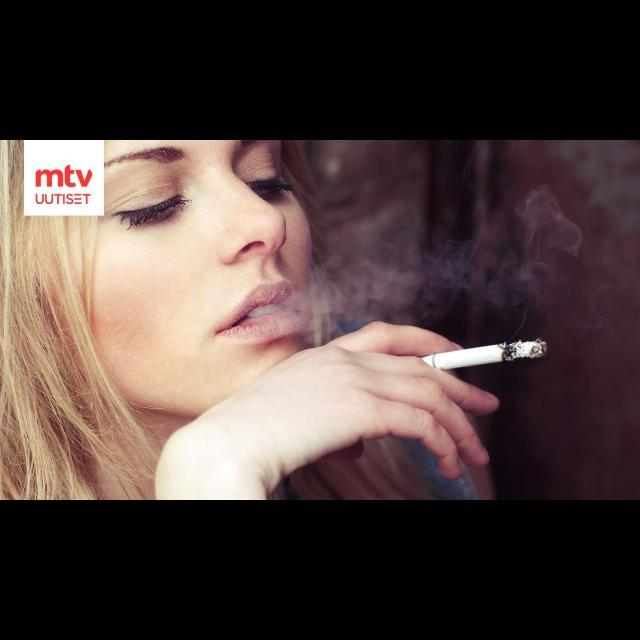rokok: (404, 332, 556, 378)
